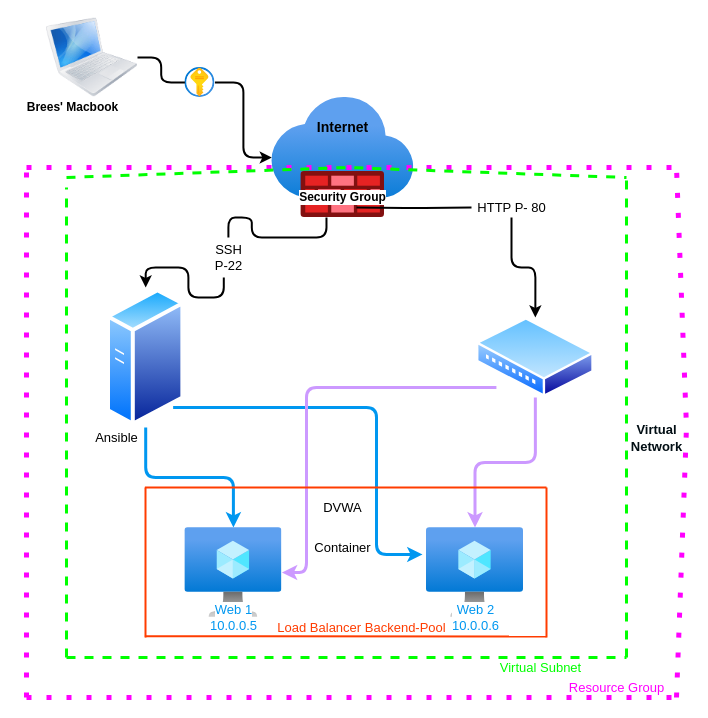
The diagram is 708 pixels wide and 718 high, and some of its shapes have lost their labels. The shapes that lost their labels are listed below. From the top down, each one's box as (x1, y1, x2, y2) in pixels, then its label:
(106, 287, 184, 427): Jump-Box-Provisioner 20.185.238.213 10.0.0.4
(476, 317, 594, 397): Load Balancer 104.45.141.184
